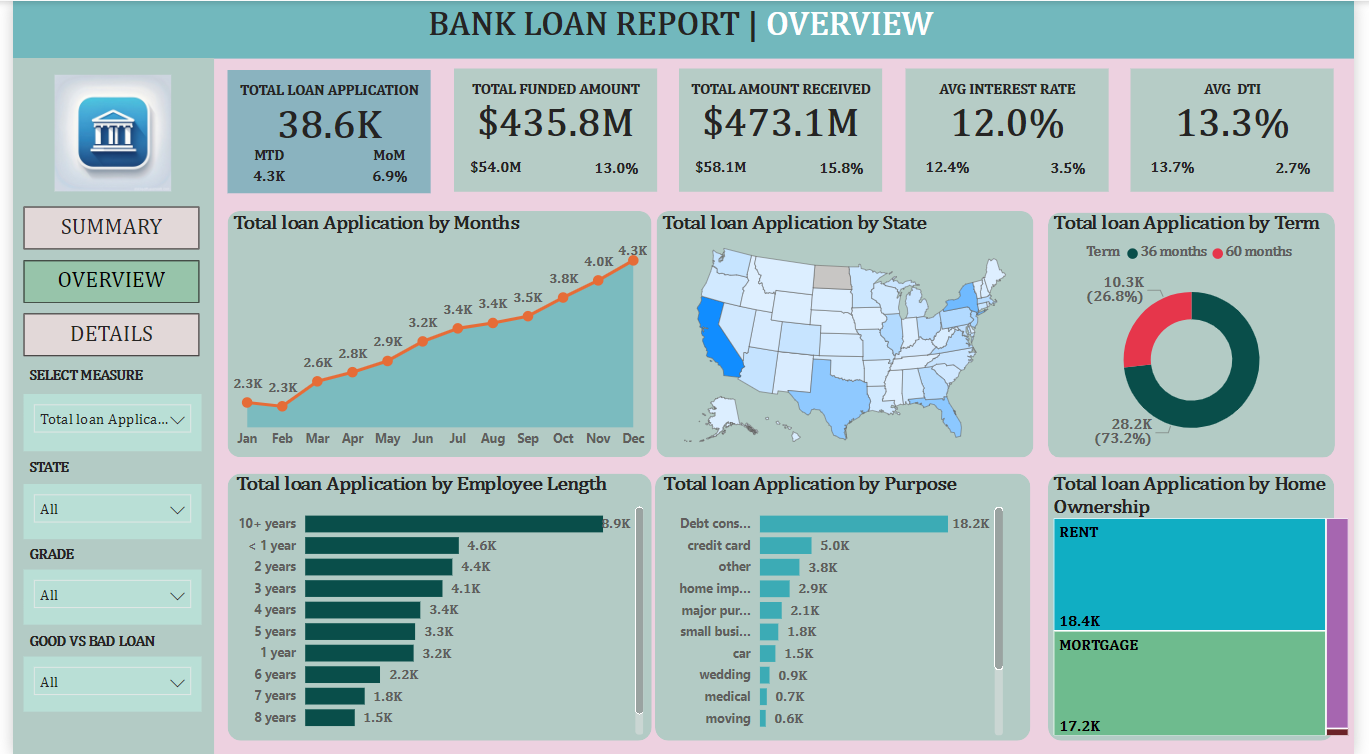

This screenshot's page, from the dashboard's own definition file:
{"tool":"powerbi","page":{"name":"OVERVIEW","canvas":[1280,720],"ordinal":1},"visuals":[{"type":"shape","box":[205.2,200.4,405,235],"z":0},{"type":"shape","box":[0,0,1280.6,55],"z":1000},{"type":"shape","box":[0,54.3,192,665.3],"z":2000},{"type":"textbox","box":[390.9,0,500.3,48.6],"z":3000},{"type":"shape","box":[420.4,64.8,194.1,117.7],"z":3000,"group":"g2"},{"type":"shape","box":[636.1,64.8,194.1,117.7],"z":3000,"group":"g3"},{"type":"shape","box":[851.7,64.8,194.1,117.7],"z":3000,"group":"g4"},{"type":"shape","box":[1067.3,64.8,194.1,117.7],"z":3000,"group":"g5"},{"type":"shape","box":[205.2,65.2,194.1,117.7],"z":3000,"group":"g1"},{"type":"group","id":"g1","title":"Group 1","box":[205.2,65.2,194.1,119.5],"z":4000},{"type":"card","fields":{"Values":["Bank_loan_data.TOTAL LOAN AMOUNT"]},"box":[420.4,87.1,194.1,52.5],"z":4000,"group":"g2"},{"type":"card","fields":{"Values":["Bank_loan_data.Total Amount received"]},"box":[636.1,87.1,194.1,52.5],"z":4000,"group":"g3"},{"type":"card","fields":{"Values":["Bank_loan_data.Avg Interest Rate"]},"box":[851.7,87.1,194.1,52.5],"z":4000,"group":"g4"},{"type":"card","fields":{"Values":["Bank_loan_data.AVG DTI"]},"box":[1067.3,87.1,194.1,52.5],"z":4000,"group":"g5"},{"type":"card","fields":{"Values":["Bank_loan_data.Total loan Application"]},"box":[205.2,87.5,194.1,52.5],"z":4000,"group":"g1"},{"type":"group","id":"g2","title":"Group 1","box":[420.4,64.8,194.4,119.5],"z":5000},{"type":"textbox","box":[420.4,69.6,194.1,36.6],"z":5000,"group":"g2"},{"type":"textbox","box":[636.1,69.6,194.1,36.6],"z":5000,"group":"g3"},{"type":"textbox","box":[851.7,69.6,194.1,36.6],"z":5000,"group":"g4"},{"type":"textbox","box":[1067.3,69.6,194.1,36.6],"z":5000,"group":"g5"},{"type":"textbox","box":[205.2,70,194.1,36.6],"z":5000,"group":"g1"},{"type":"group","id":"g3","title":"Group 1","box":[636.1,64.8,194.4,119.5],"z":6000},{"type":"card","title":"MTD","fields":{"Values":["Bank_loan_data.MTD Funded Amount"]},"box":[420.4,139.6,77.9,42.9],"z":6000,"group":"g2"},{"type":"card","title":"MTD","fields":{"Values":["Bank_loan_data.MTD Total Amount Received"]},"box":[636.1,139.6,77.9,42.9],"z":6000,"group":"g3"},{"type":"card","title":"MTD","fields":{"Values":["Bank_loan_data.MTD Avg Interest Rate"]},"box":[851.7,139.6,77.9,42.9],"z":6000,"group":"g4"},{"type":"card","title":"MTD","fields":{"Values":["Bank_loan_data.MTD Avg DTI"]},"box":[1067.3,139.6,77.9,42.9],"z":6000,"group":"g5"},{"type":"card","title":"MTD","fields":{"Values":["Bank_loan_data.MTD Loan Application"]},"box":[205.2,140,77.9,42.9],"z":6000,"group":"g1"},{"type":"group","id":"g4","title":"Group 1","box":[851.7,64.8,194.4,119.5],"z":7000},{"type":"card","title":"MoM","fields":{"Values":["Bank_loan_data.MoM Total Funded Amount"]},"box":[535.1,139.8,79,44.6],"z":7000,"group":"g2"},{"type":"card","title":"MoM","fields":{"Values":["Bank_loan_data.MoM Total Amount Received"]},"box":[750.8,139.8,79,44.6],"z":7000,"group":"g3"},{"type":"card","title":"MoM","fields":{"Values":["Bank_loan_data.MoM Avg Interest rate"]},"box":[966.4,139.8,79,44.6],"z":7000,"group":"g4"},{"type":"card","title":"MoM","fields":{"Values":["Bank_loan_data.MoM Avg DTI"]},"box":[1182,139.8,79,44.6],"z":7000,"group":"g5"},{"type":"card","title":"MoM","fields":{"Values":["Bank_loan_data.MoM LOAN APPLICATION"]},"box":[319.9,140.2,79,44.6],"z":7000,"group":"g1"},{"type":"group","id":"g5","title":"Group 1","box":[1067.3,64.8,194.4,119.5],"z":8000},{"type":"slicer","fields":{"Values":["Bank_loan_data.address_state"]},"box":[10.1,461.2,170.2,52.5],"z":9000,"group":"g9"},{"type":"textbox","box":[10.1,429.4,138.4,30.2],"z":10000,"group":"g9"},{"type":"slicer","fields":{"Values":["Bank_loan_data.grade"]},"box":[10.1,542.6,170.2,52.5],"z":11000,"group":"g8"},{"type":"textbox","box":[10.1,512.4,138.4,30.2],"z":12000,"group":"g8"},{"type":"slicer","fields":{"Values":["Bank_loan_data.Good VS Bad Loan"]},"box":[10.1,626.1,170.2,52.5],"z":13000,"group":"g7"},{"type":"textbox","box":[10.7,595.4,170.1,30.4],"z":14000,"group":"g7"},{"type":"areaChart","fields":{"Y":["Bank_loan_data.Total loan Application"],"Category":["Date Table.Months"]},"box":[205.2,202,405.6,233.8],"z":15000},{"type":"shape","box":[614,200.4,360,235.4],"z":16000},{"type":"slicer","fields":{"Values":["Select Measure.Select Measure"]},"box":[10.1,374.7,170.1,54.7],"z":16000,"group":"g6"},{"type":"shapeMap","fields":{"Value":["Bank_loan_data.Total loan Application"],"Category":["Bank_loan_data.address_state"]},"box":[614,202,359.5,233.8],"z":17000},{"type":"textbox","box":[10.1,342.3,137.7,30.4],"z":17000,"group":"g6"},{"type":"shape","box":[988.8,202.5,274,234.3],"z":18000},{"type":"donutChart","fields":{"Y":["Bank_loan_data.Total loan Application"],"Category":["Bank_loan_data.term"]},"box":[988.4,202.5,273.4,232.9],"z":19000},{"type":"shape","box":[204.6,451.6,405.1,255.2],"z":20000},{"type":"barChart","fields":{"Y":["Bank_loan_data.Total loan Application"],"Category":["Bank_loan_data.emp_length"]},"box":[208.4,451.7,399.2,254.5],"z":21000},{"type":"shape","box":[613.7,451.6,358.5,255.2],"z":22000},{"type":"barChart","fields":{"Y":["Bank_loan_data.Total loan Application"],"Category":["Bank_loan_data.purpose"]},"box":[615.7,451.6,334.2,255.2],"z":23000},{"type":"shape","box":[988.4,451.6,273.4,255.2],"z":24000},{"type":"treemap","fields":{"Values":["Bank_loan_data.Total loan Application"],"Group":["Bank_loan_data.home_ownership"]},"box":[988.4,451.6,291.6,255.2],"z":25000},{"type":"group","id":"g6","title":"Group 2","box":[10.1,342.3,170.1,87.1],"z":26000},{"type":"pageNavigator","box":[10.1,196.5,168.1,145.8],"z":27000},{"type":"group","id":"g7","title":"Group 3","box":[10.1,595.4,170.1,83],"z":27001},{"type":"group","id":"g8","title":"Group 4","box":[10.1,512.4,170.1,83],"z":27002},{"type":"group","id":"g9","title":"Group 5","box":[10.1,429.4,170.1,83],"z":27003},{"type":"image","box":[34.4,64.8,121.5,123.5],"z":27004}]}

Visuals, with their boxes in screenshot pixels (x1, y1, x2, y2), scaled from the page's 1280x720 canvas onto the 1369x754 screenshot:
shape: bbox=[219, 210, 653, 456]
shape: bbox=[0, 0, 1368, 58]
shape: bbox=[0, 57, 205, 753]
textbox: bbox=[418, 0, 953, 51]
shape: bbox=[450, 68, 657, 191]
shape: bbox=[680, 68, 888, 191]
shape: bbox=[911, 68, 1119, 191]
shape: bbox=[1142, 68, 1349, 191]
shape: bbox=[219, 68, 427, 192]
"Group 1" group: bbox=[219, 68, 427, 193]
card - Bank_loan_data.TOTAL LOAN AMOUNT: bbox=[450, 91, 657, 146]
card - Bank_loan_data.Total Amount received: bbox=[680, 91, 888, 146]
card - Bank_loan_data.Avg Interest Rate: bbox=[911, 91, 1119, 146]
card - Bank_loan_data.AVG DTI: bbox=[1142, 91, 1349, 146]
card - Bank_loan_data.Total loan Application: bbox=[219, 92, 427, 147]
"Group 1" group: bbox=[450, 68, 658, 193]
textbox: bbox=[450, 73, 657, 111]
textbox: bbox=[680, 73, 888, 111]
textbox: bbox=[911, 73, 1119, 111]
textbox: bbox=[1142, 73, 1349, 111]
textbox: bbox=[219, 73, 427, 112]
"Group 1" group: bbox=[680, 68, 888, 193]
"MTD" card: bbox=[450, 146, 533, 191]
"MTD" card: bbox=[680, 146, 764, 191]
"MTD" card: bbox=[911, 146, 994, 191]
"MTD" card: bbox=[1142, 146, 1225, 191]
"MTD" card: bbox=[219, 147, 303, 192]
"Group 1" group: bbox=[911, 68, 1119, 193]
"MoM" card: bbox=[572, 146, 657, 193]
"MoM" card: bbox=[803, 146, 887, 193]
"MoM" card: bbox=[1034, 146, 1118, 193]
"MoM" card: bbox=[1264, 146, 1349, 193]
"MoM" card: bbox=[342, 147, 427, 194]
"Group 1" group: bbox=[1142, 68, 1349, 193]
slicer - Bank_loan_data.address_state: bbox=[11, 483, 193, 538]
textbox: bbox=[11, 450, 159, 481]
slicer - Bank_loan_data.grade: bbox=[11, 568, 193, 623]
textbox: bbox=[11, 537, 159, 568]
slicer - Bank_loan_data.Good VS Bad Loan: bbox=[11, 656, 193, 711]
textbox: bbox=[11, 624, 193, 655]
areaChart - Bank_loan_data.Total loan Application x Date Table.Months: bbox=[219, 212, 653, 456]
shape: bbox=[657, 210, 1042, 456]
slicer - Select Measure.Select Measure: bbox=[11, 392, 193, 450]
shapeMap - Bank_loan_data.Total loan Application x Bank_loan_data.address_state: bbox=[657, 212, 1041, 456]
textbox: bbox=[11, 358, 158, 390]
shape: bbox=[1058, 212, 1351, 457]
donutChart - Bank_loan_data.Total loan Application x Bank_loan_data.term: bbox=[1057, 212, 1350, 456]
shape: bbox=[219, 473, 652, 740]
barChart - Bank_loan_data.Total loan Application x Bank_loan_data.emp_length: bbox=[223, 473, 650, 740]
shape: bbox=[656, 473, 1040, 740]
barChart - Bank_loan_data.Total loan Application x Bank_loan_data.purpose: bbox=[659, 473, 1016, 740]
shape: bbox=[1057, 473, 1350, 740]
treemap - Bank_loan_data.Total loan Application x Bank_loan_data.home_ownership: bbox=[1057, 473, 1368, 740]
"Group 2" group: bbox=[11, 358, 193, 450]
pageNavigator: bbox=[11, 206, 191, 358]
"Group 3" group: bbox=[11, 624, 193, 710]
"Group 4" group: bbox=[11, 537, 193, 624]
"Group 5" group: bbox=[11, 450, 193, 537]
image: bbox=[37, 68, 167, 197]
